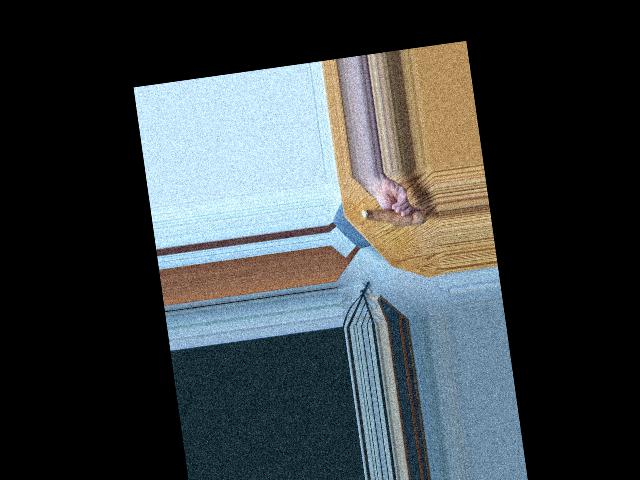sweet_potato: (363, 199, 424, 235)
